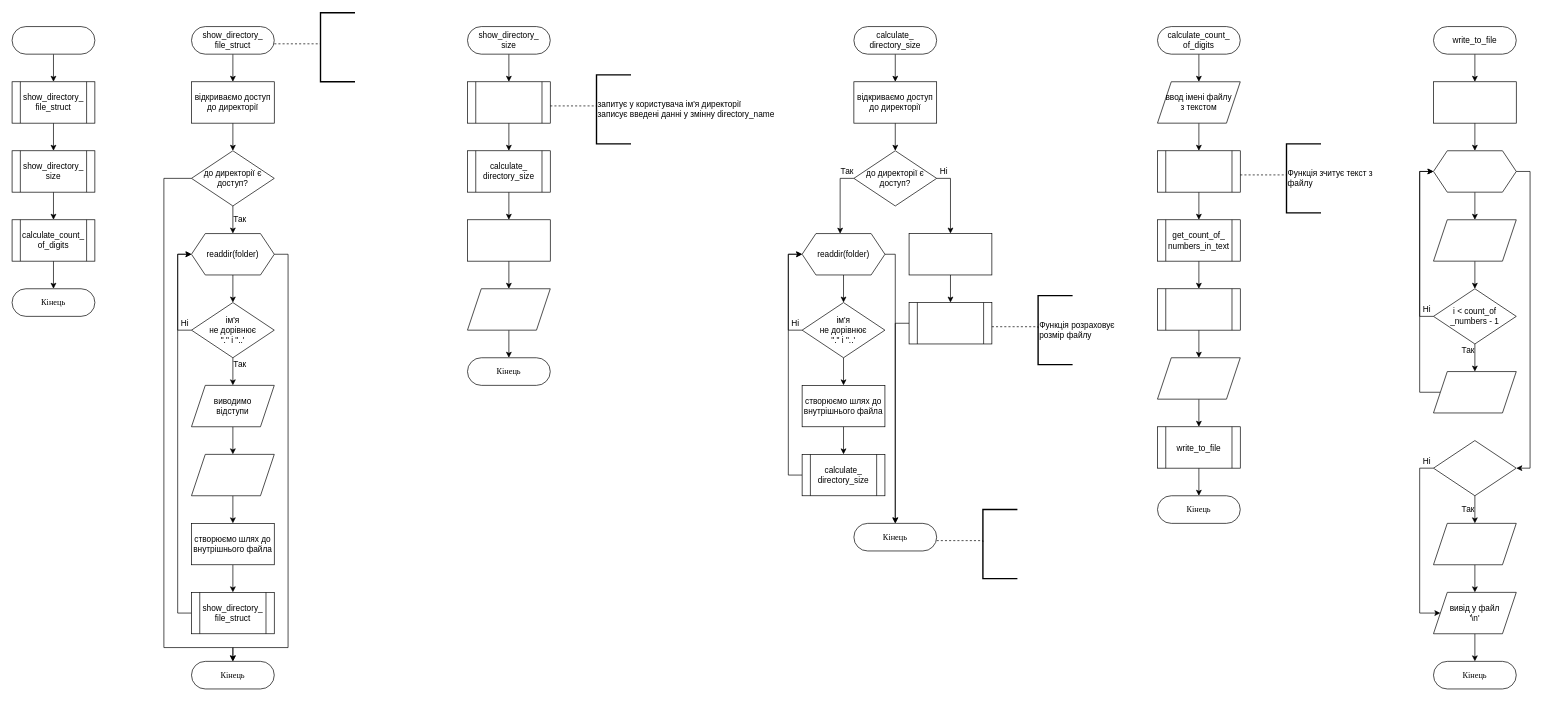
Some shapes in this 1548 by 701 pixel diagram are drawn without their labels. Each missing label, with the centre of its shape:
0 <= i < count_of_ numbers: the point at 1474,171
calculate_file_ size: the point at 950,323
get_directory_ name: the point at 508,102
get_numbers_ in_text: the point at 1198,309
read_from_file: the point at 1198,171
ввод імені файлу для виводу: the point at 1198,378
виводимо розмір директорії: the point at 508,309
виводимо ім'я директорії: the point at 232,475
вивід у файл "; ": the point at 1474,392
вивід у файл "No numbers": the point at 1474,544
відкриваємо доступ до файлу: the point at 950,254
відкрити доступ до файлу: the point at 1474,102
запис у файл i числа: the point at 1474,240
записуємо розмір директорії у строку: the point at 508,240
Початок: the point at 53,40
сount_of_numbers == 0: the point at 1474,468
Функція повертає розмір директорії: the point at 1000,544
Функція приймає: ім'я директорії, кількість відступів: the point at 337,47
